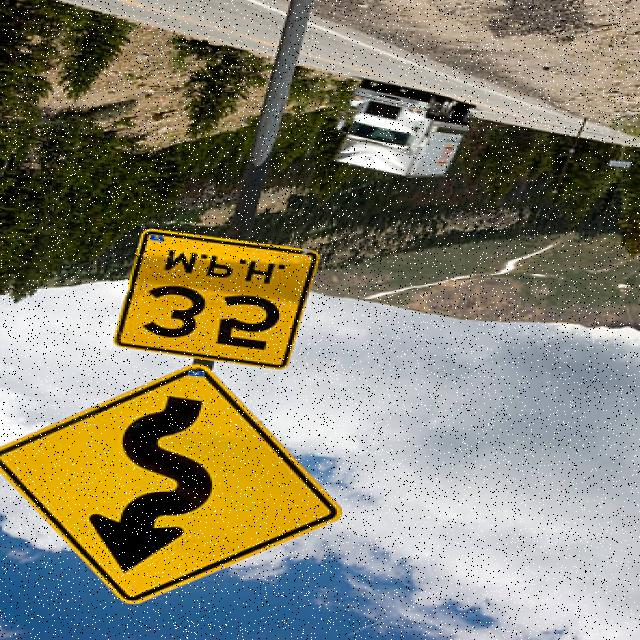left_sharp_curve: (1, 354, 364, 610)
